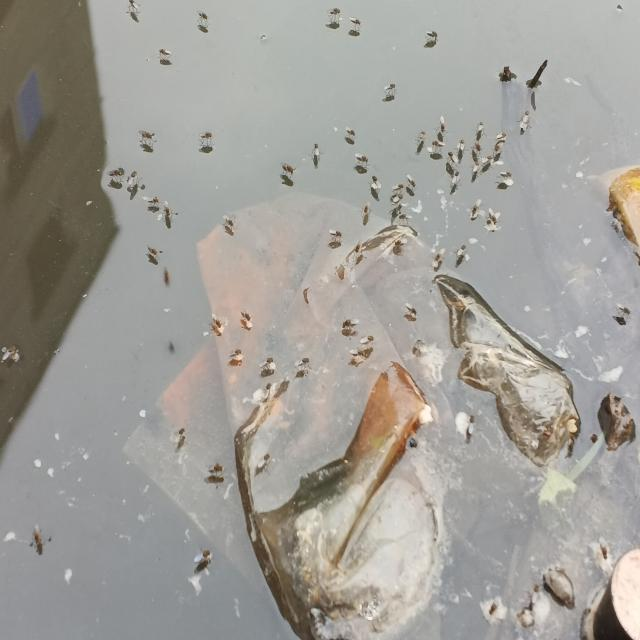Mosquito Swarm: (337, 107, 544, 286)
